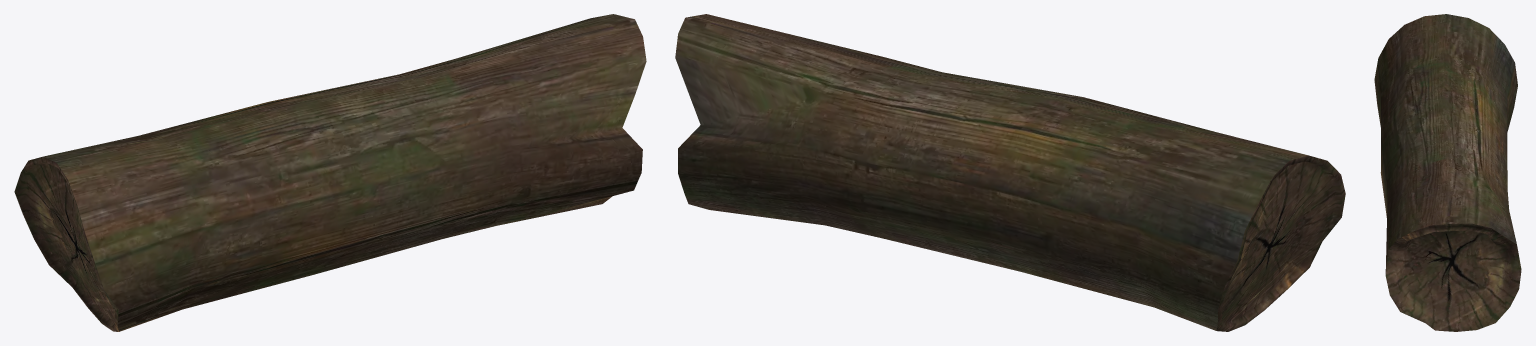
3 renders of one model, left to right at view 1: azimuth 30°, elevation 25°; view 2: azimuth 150°, elevation 25°; view 3: azimuth 270°, elevation 25°, orthographic. The views are drawn at different scales.
Visible parts, largest first — view 1: SM_Village_Hitching_Post_01_LOD0; view 2: SM_Village_Hitching_Post_01_LOD0; view 3: SM_Village_Hitching_Post_01_LOD0.
Boxes of the visible parts, x1,y1,x2,y2 form: SM_Village_Hitching_Post_01_LOD0: [14, 14, 646, 331]; SM_Village_Hitching_Post_01_LOD0: [675, 14, 1345, 331]; SM_Village_Hitching_Post_01_LOD0: [1374, 14, 1521, 331].
Bounding box in the file's own units: 0.9504 × 0.2635 × 0.2771.
1 material, 1 textured.
